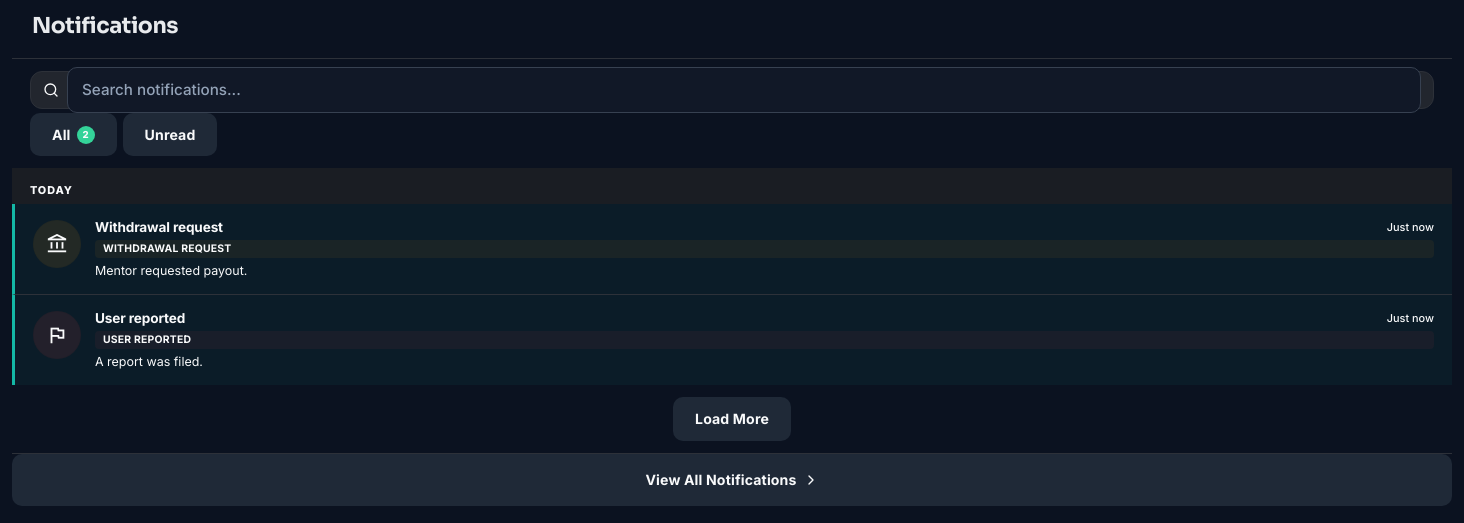
NotificationCenter — admin routing, grouping, search › filters notifications instantly via the search box
Check: the text "Withdrawal request" is shown, box [95, 218, 223, 237]
Check: the text "User reported" is shown, box [95, 309, 185, 328]
In the search field labelled "Search notifications": (744, 90) [67, 67, 1421, 113], type "withdrawal"
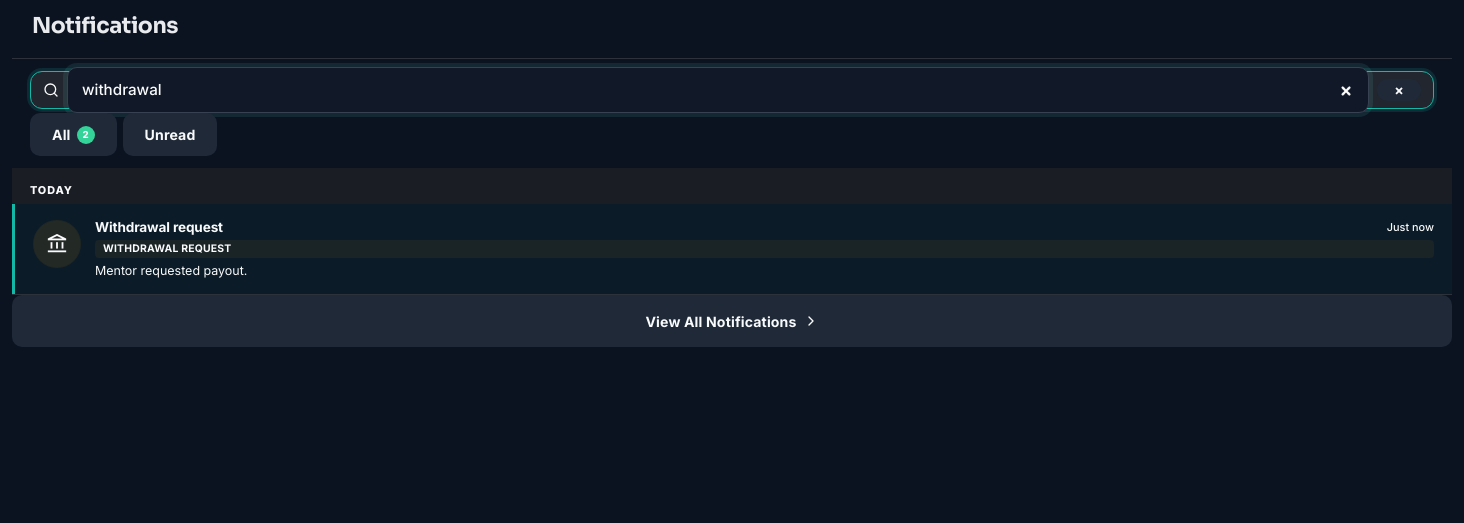
Check: the text "Withdrawal request" is shown, box [95, 218, 223, 237]
Check: the button "User reported" is gone
